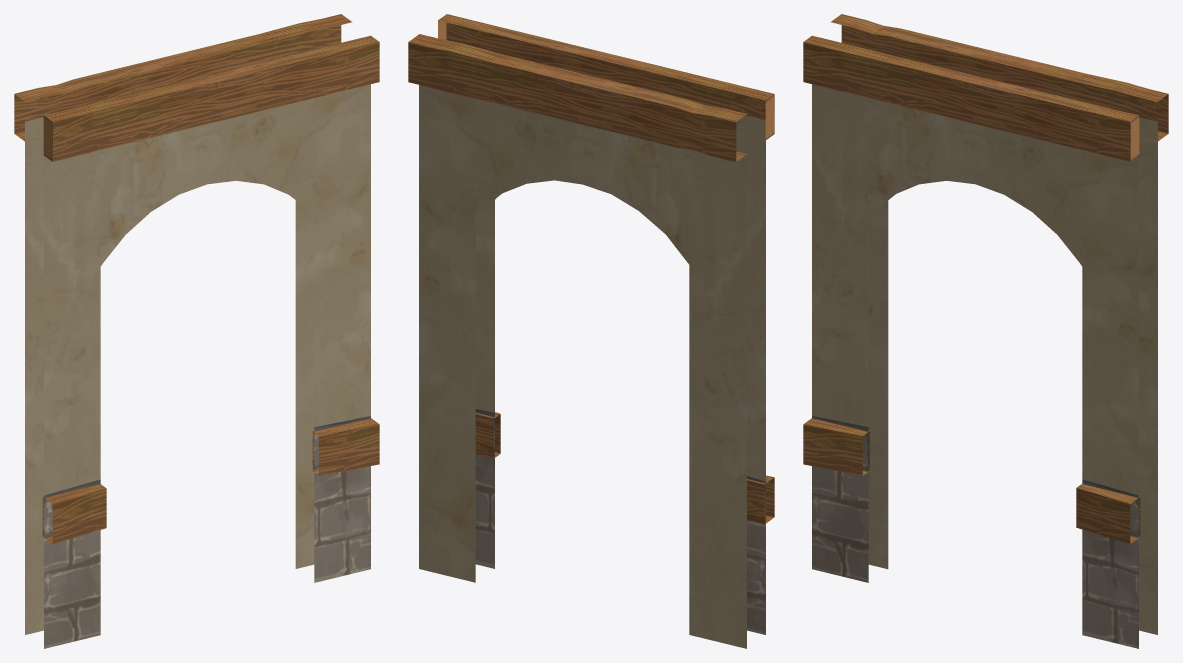
Rendered from Wall_Plaster_Door_Round.glb.
3 views of the same model, side by side, from view 1: azimuth 30°, elevation 25°; view 2: azimuth 150°, elevation 25°; view 3: azimuth 330°, elevation 25° (orthographic).
Parts seen in each view (by area): view 1: Wall_Plaster_Door_Round; view 2: Wall_Plaster_Door_Round; view 3: Wall_Plaster_Door_Round.
Boxes of the visible parts, box(x1,y1,x2,y2) form: Wall_Plaster_Door_Round: box(14, 14, 379, 648); Wall_Plaster_Door_Round: box(408, 14, 774, 648); Wall_Plaster_Door_Round: box(803, 14, 1168, 648).
Bounding box in the file's own units: 2 × 3.12 × 0.4065.
Materials: 3 (3 with a texture image).
